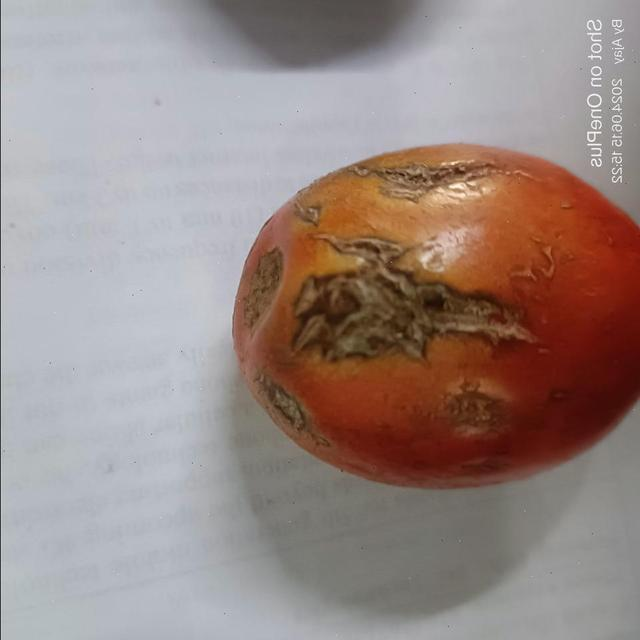Cracking Fruit: (168, 105, 344, 282)
